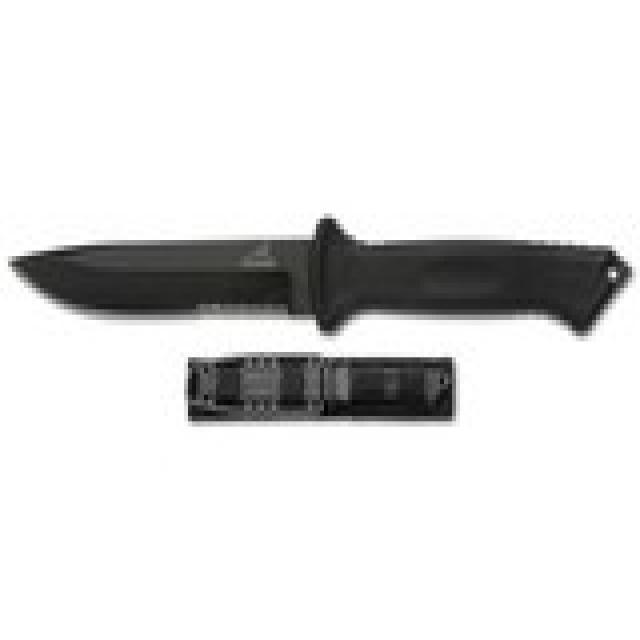Knife: (5, 218, 640, 335)
